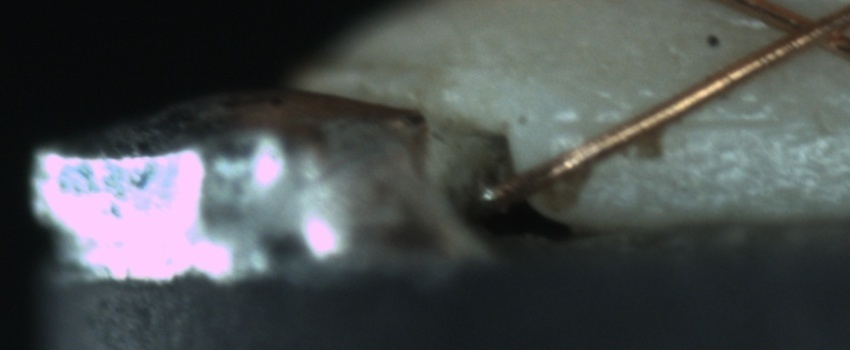CL: (752, 0, 849, 61)
DL: (565, 88, 845, 155)
